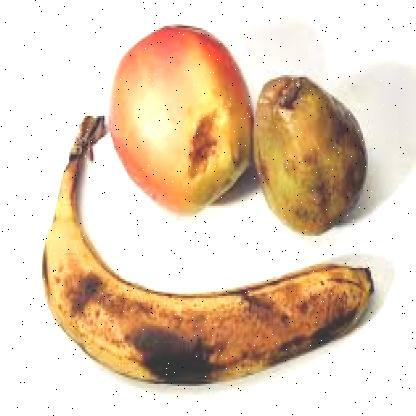damaged_apple: (106, 28, 249, 212), (249, 78, 369, 233)
